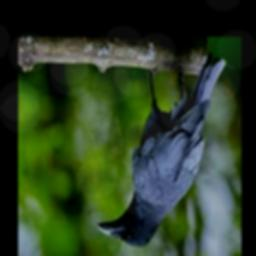Crow: (96, 52, 225, 247)
